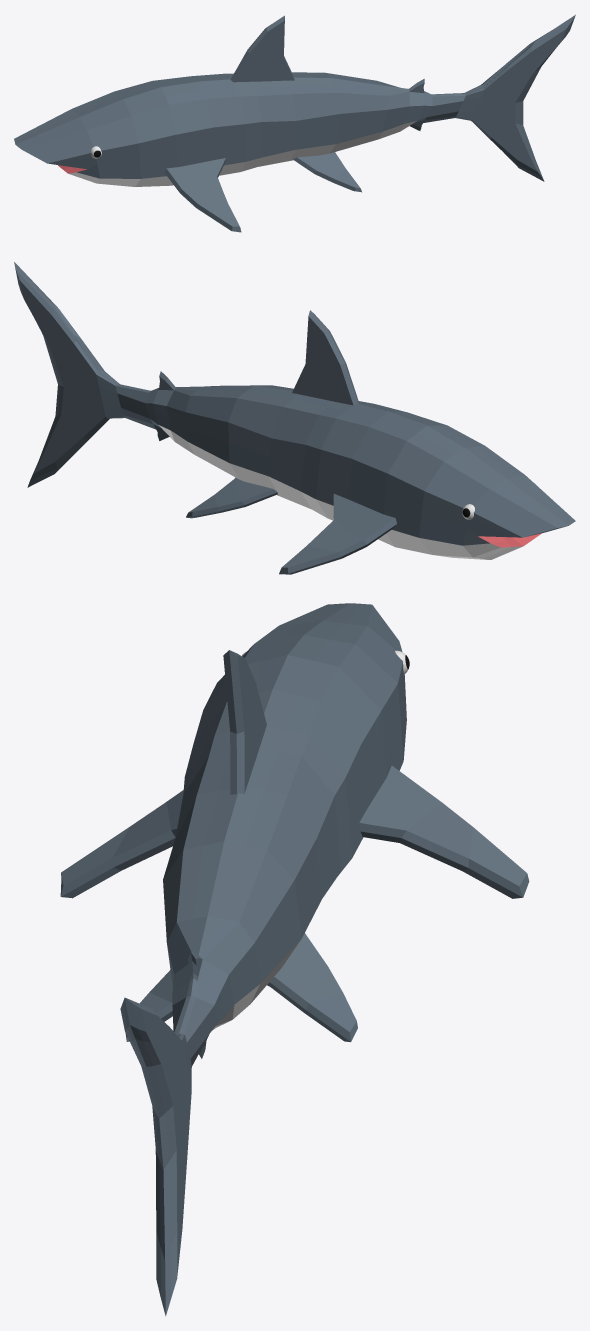
Rendered from TibursioAno.fbx.
3 renders of one model, top to bottom at view 1: azimuth 30°, elevation 25°; view 2: azimuth 150°, elevation 25°; view 3: azimuth 270°, elevation 25°, orthographic. The views are drawn at different scales.
Parts seen in each view (by area): view 1: Plane.007; view 2: Plane.007; view 3: Plane.007.
Part boxes in pixels (x1,y1,x2,y2): Plane.007: [14, 14, 575, 232]; Plane.007: [14, 262, 575, 574]; Plane.007: [60, 603, 529, 1316].
Size of the model in its own units: 452 by 184 by 182.
